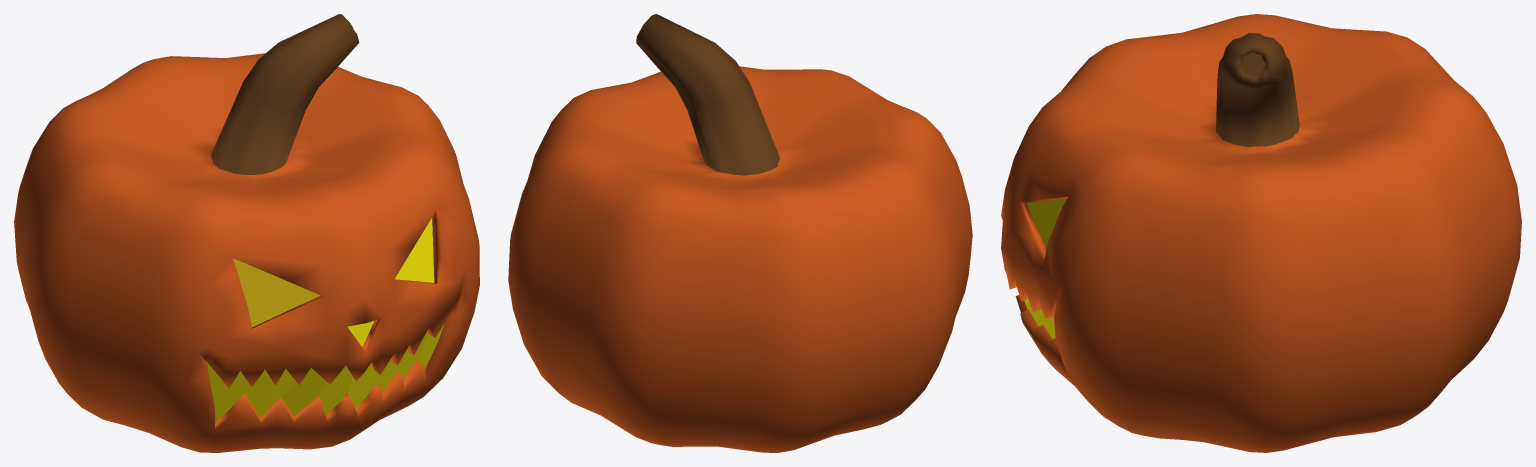
The model's file is JackoLantern.fbx.
The picture shows the model from 3 angles, left to right: view 1: azimuth 30°, elevation 25°; view 2: azimuth 150°, elevation 25°; view 3: azimuth 270°, elevation 25°; orthographic projection. The views are drawn at different scales.
Parts seen in each view (by area): view 1: Jack-o-Lantern; view 2: Jack-o-Lantern; view 3: Jack-o-Lantern.
Part boxes in pixels (x1=…): Jack-o-Lantern: x1=14, y1=14, x2=479, y2=452; Jack-o-Lantern: x1=508, y1=14, x2=972, y2=452; Jack-o-Lantern: x1=1001, y1=14, x2=1521, y2=452.
Size of the model in its own units: 0.3198 by 0.2694 by 0.3193.
